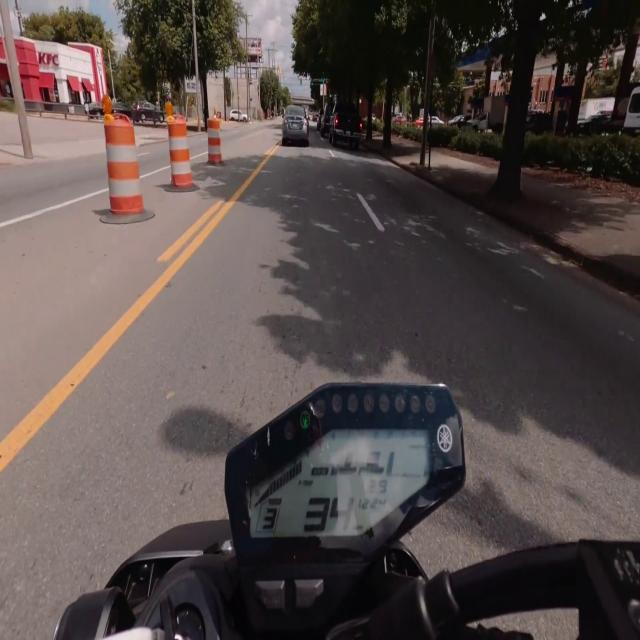car: (329, 94, 371, 148), (282, 105, 309, 146), (229, 110, 248, 122)
motorcycle: (54, 384, 639, 639)
